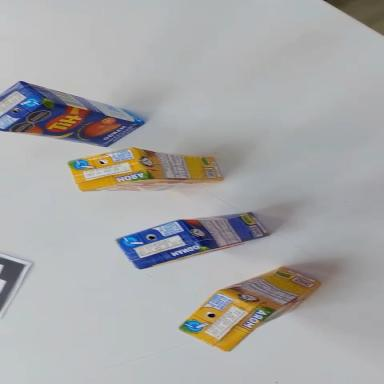HIT-MANGO: (0, 77, 147, 167), (115, 198, 270, 274)
HIT-MORA: (173, 241, 324, 367), (68, 139, 224, 196)
cara_F: (2, 94, 145, 163), (85, 178, 217, 192)
